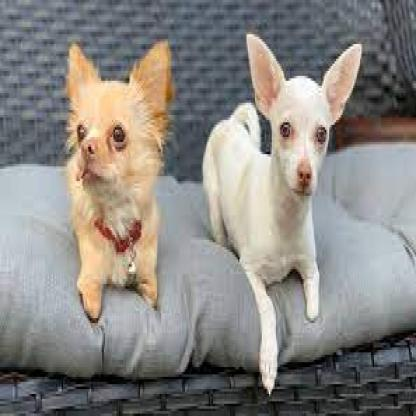dog: (198, 15, 382, 399), (59, 44, 178, 306)
